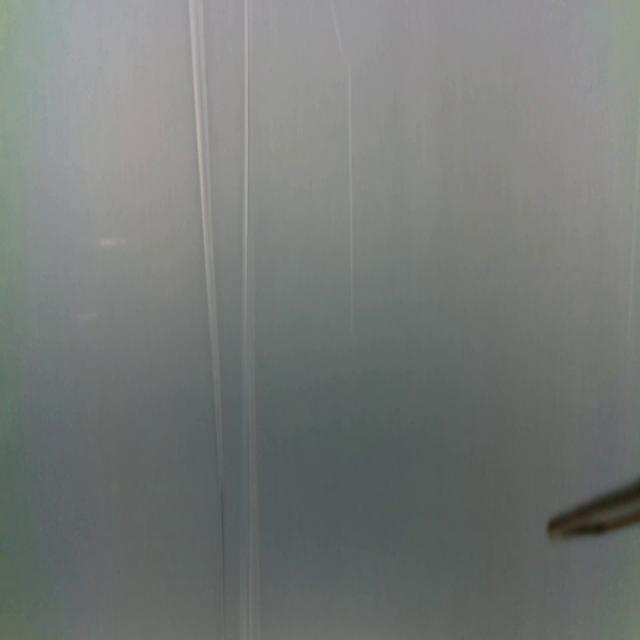crease: (188, 0, 228, 640), (237, 0, 264, 639), (330, 0, 356, 343)
